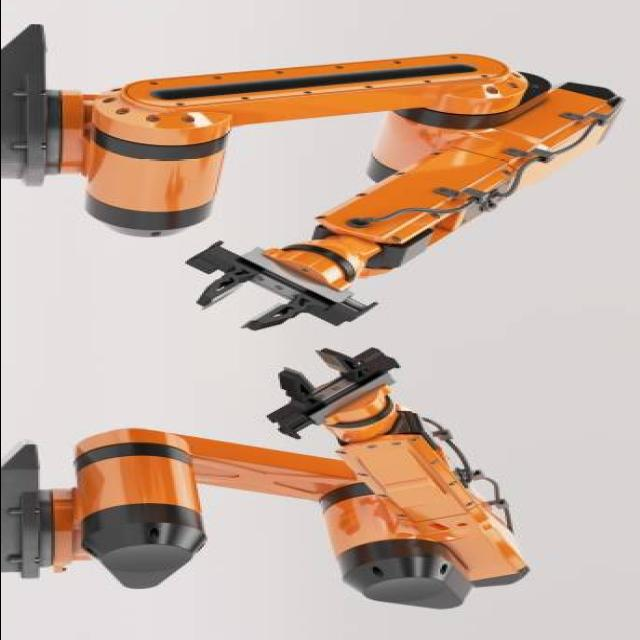Robotic-arm: (0, 8, 626, 331), (0, 342, 535, 614)
